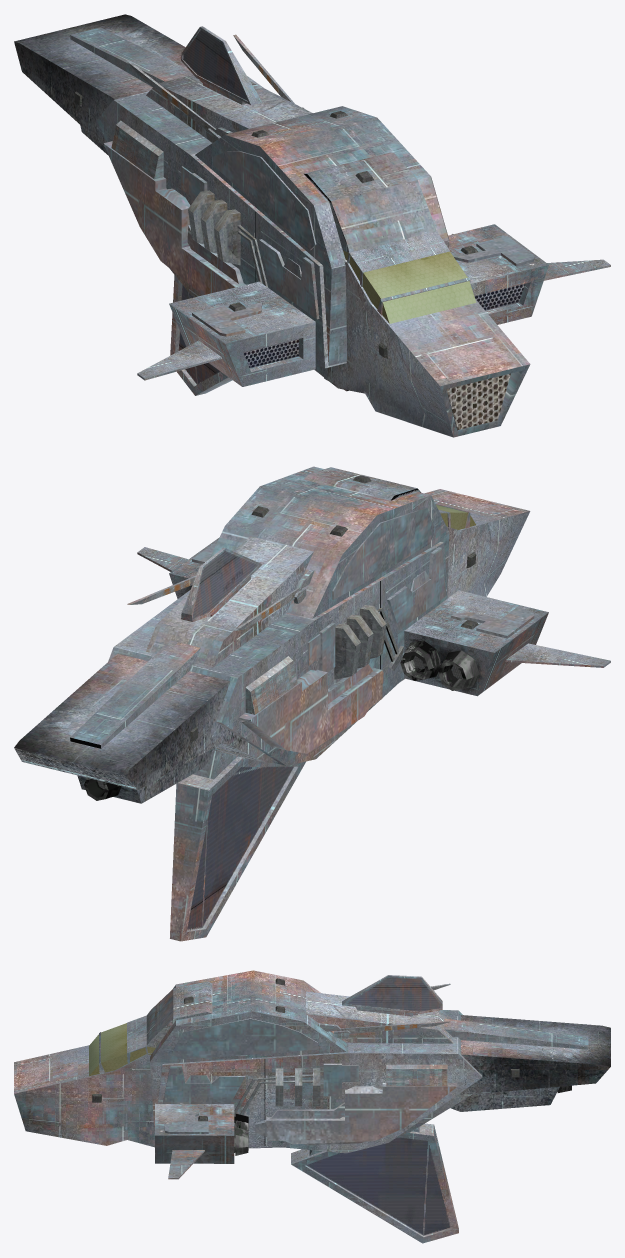
File: HN-770 Merchantman.fbx
The picture shows the model from 3 angles, top to bottom: view 1: azimuth 30°, elevation 25°; view 2: azimuth 150°, elevation 25°; view 3: azimuth 270°, elevation 25°; orthographic projection. The views are drawn at different scales.
Visible parts, largest first — view 1: Hull, Panel, Engine, Top Sail, Glass, ISG EE, Comm, Sail, Mount; view 2: Hull, Panel, Sail, Engine, ISG EE, Top Sail, Comm, Mount; view 3: Hull, Panel, Sail, Engine, Top Sail, Comm, ISG EE, Glass, Mount.
Part boxes in pixels (x1,y1,x2,y2): Hull: (14,14,530,437); Panel: (103,141,534,336); Engine: (137,224,610,386); Top Sail: (181,26,470,315); Glass: (343,250,476,323); ISG EE: (188,190,453,298); Comm: (111,34,304,179); Sail: (170,275,232,395); Mount: (74,91,477,358); Hull: (14,466,530,803); Panel: (192,507,534,753); Sail: (170,750,305,941); Engine: (137,537,610,696); ISG EE: (84,588,479,800); Top Sail: (181,504,470,621); Comm: (97,550,462,789); Mount: (190,475,478,742); Hull: (14,970,610,1153); Panel: (162,1018,457,1145); Sail: (291,1123,458,1243); Engine: (155,1103,234,1179); Top Sail: (99,975,442,1073); Comm: (318,983,450,1086); ISG EE: (234,1068,571,1155); Glass: (89,1023,155,1076); Mount: (92,978,519,1121).
Bounding box in the file's own units: 224 × 170 × 346.
9 materials, 9 textured.
